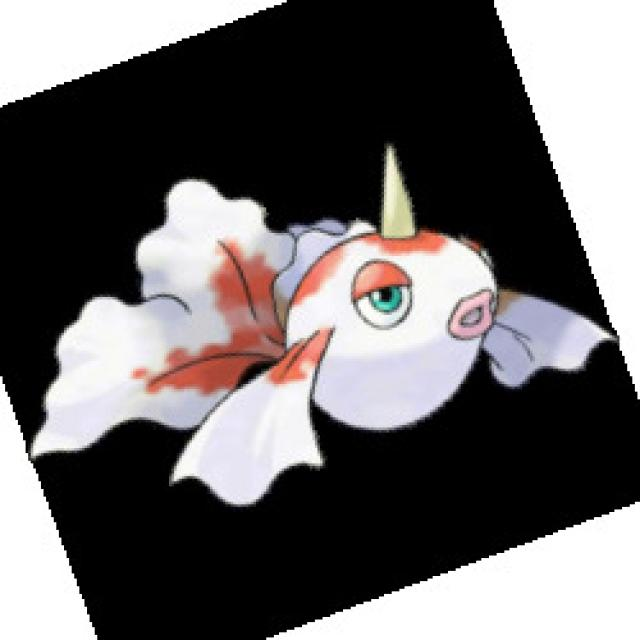Goldeen: (139, 214, 523, 426)
